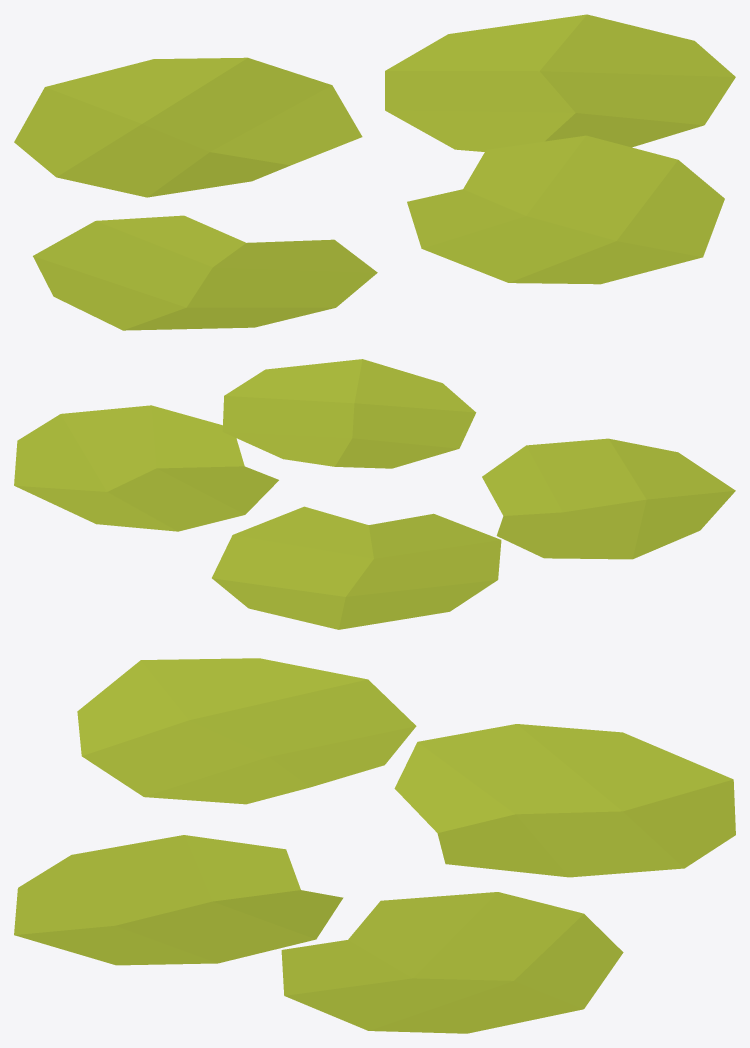
Rendered from Lilly_leaves_1.fbx.
3 views of the same model, one above another, from view 1: azimuth 30°, elevation 25°; view 2: azimuth 150°, elevation 25°; view 3: azimuth 270°, elevation 25° (orthographic). The views are drawn at different scales.
Parts seen in each view (by area): view 1: Lilly_leaves_1; view 2: Lilly_leaves_1; view 3: Lilly_leaves_1.
Part boxes in pixels (x1,y1,x2,y2): Lilly_leaves_1: (14, 14, 735, 330); Lilly_leaves_1: (14, 359, 735, 629); Lilly_leaves_1: (14, 658, 735, 1033).
Size of the model in its own units: 0.062 by 0.00186 by 0.0501.
Materials: 1 (1 with a texture image).
